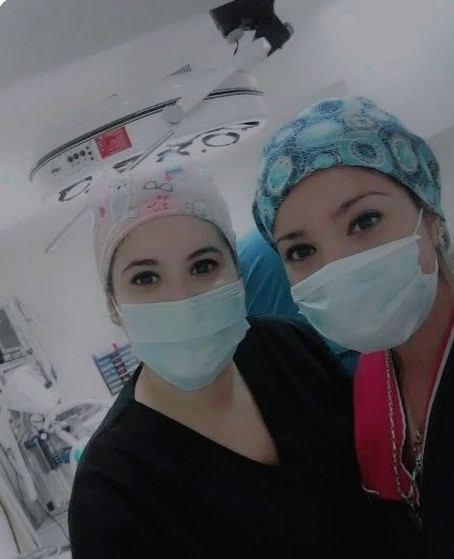face_with_mask: (249, 95, 447, 354), (84, 156, 254, 390)
